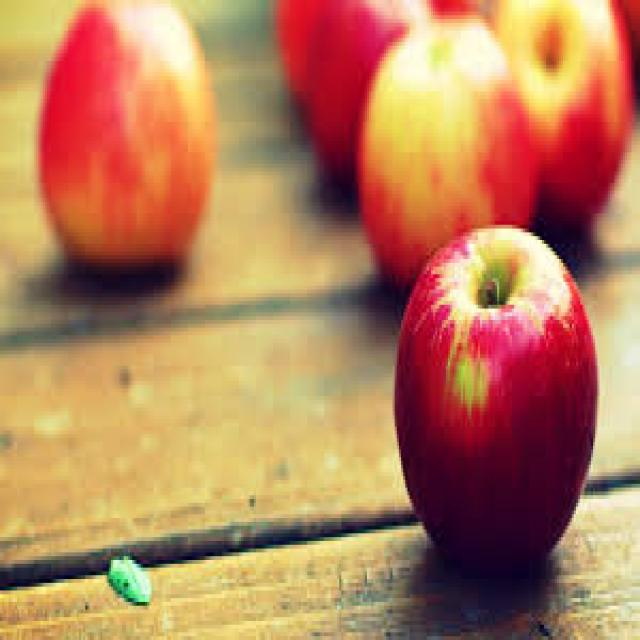apple: (391, 220, 605, 601)
